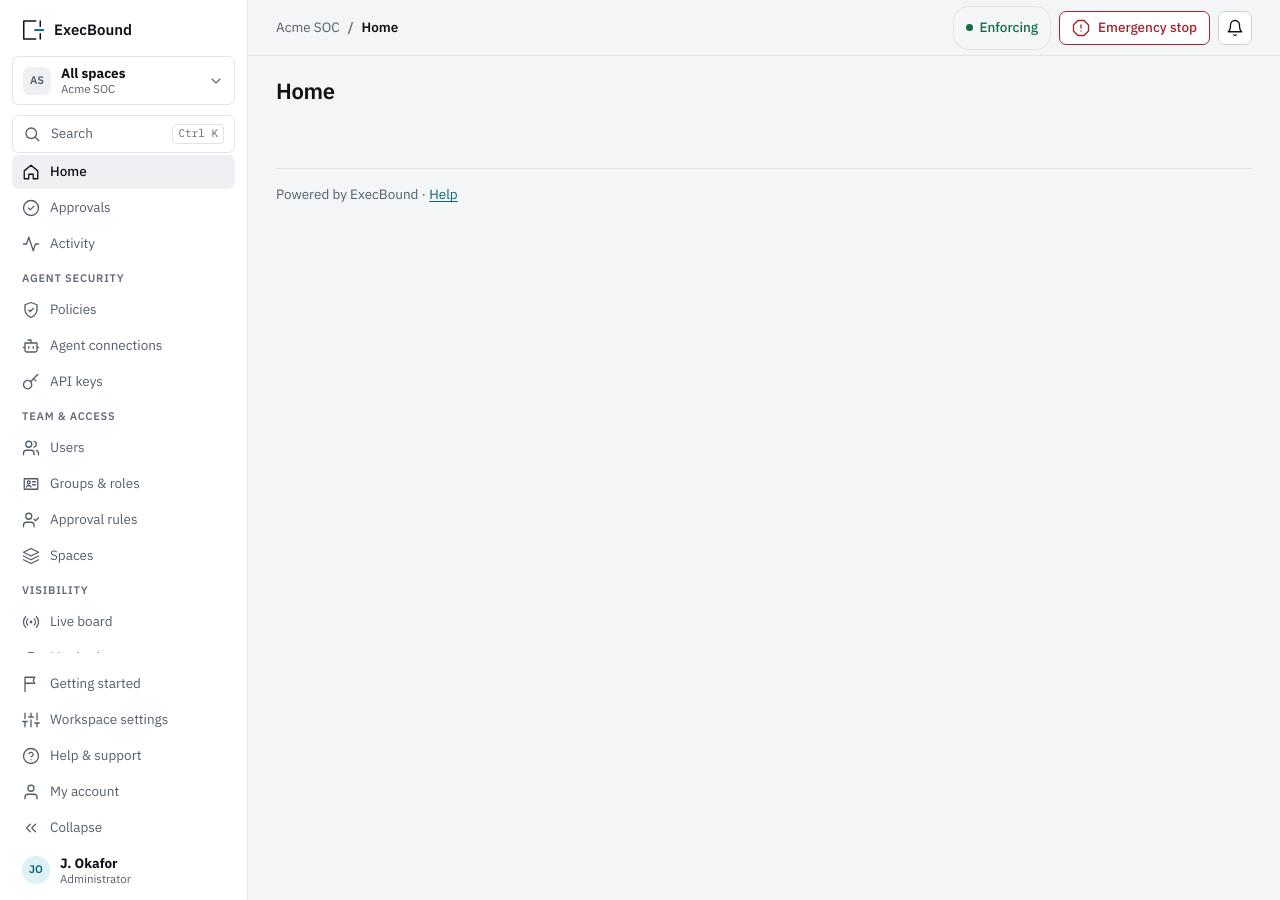
Test: the emergency stop in the shell › opens the stop dialog for an administrator, and shows no banner without a stop
Expected: the heading "Home" is shown, [276,78,335,104]
Click the button "Emergency stop". click: point(1135, 28)
box: [1059,10,1210,44]
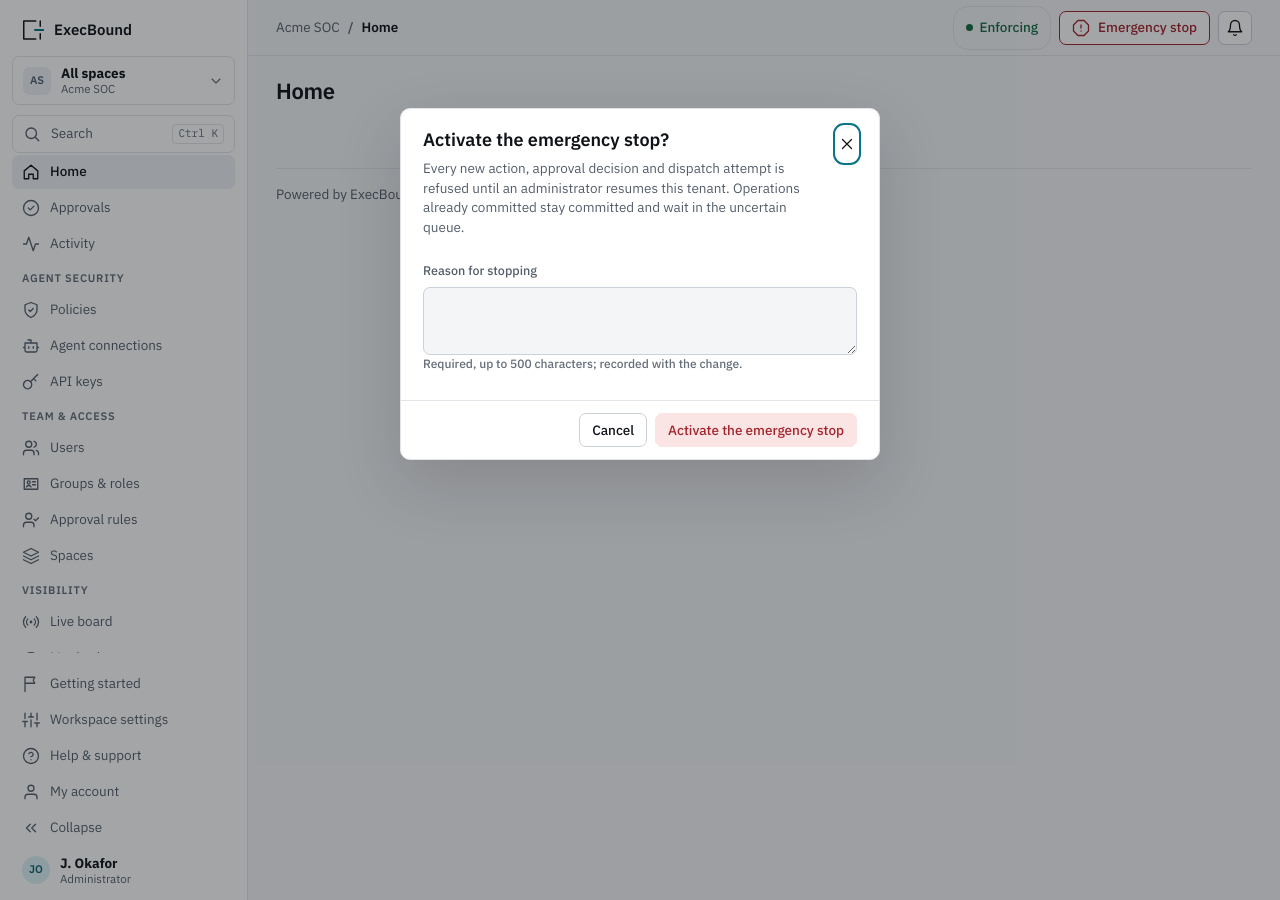
Expected: the dialog "Activate the emergency stop?" is shown, [400,108,880,460]
Press Escape
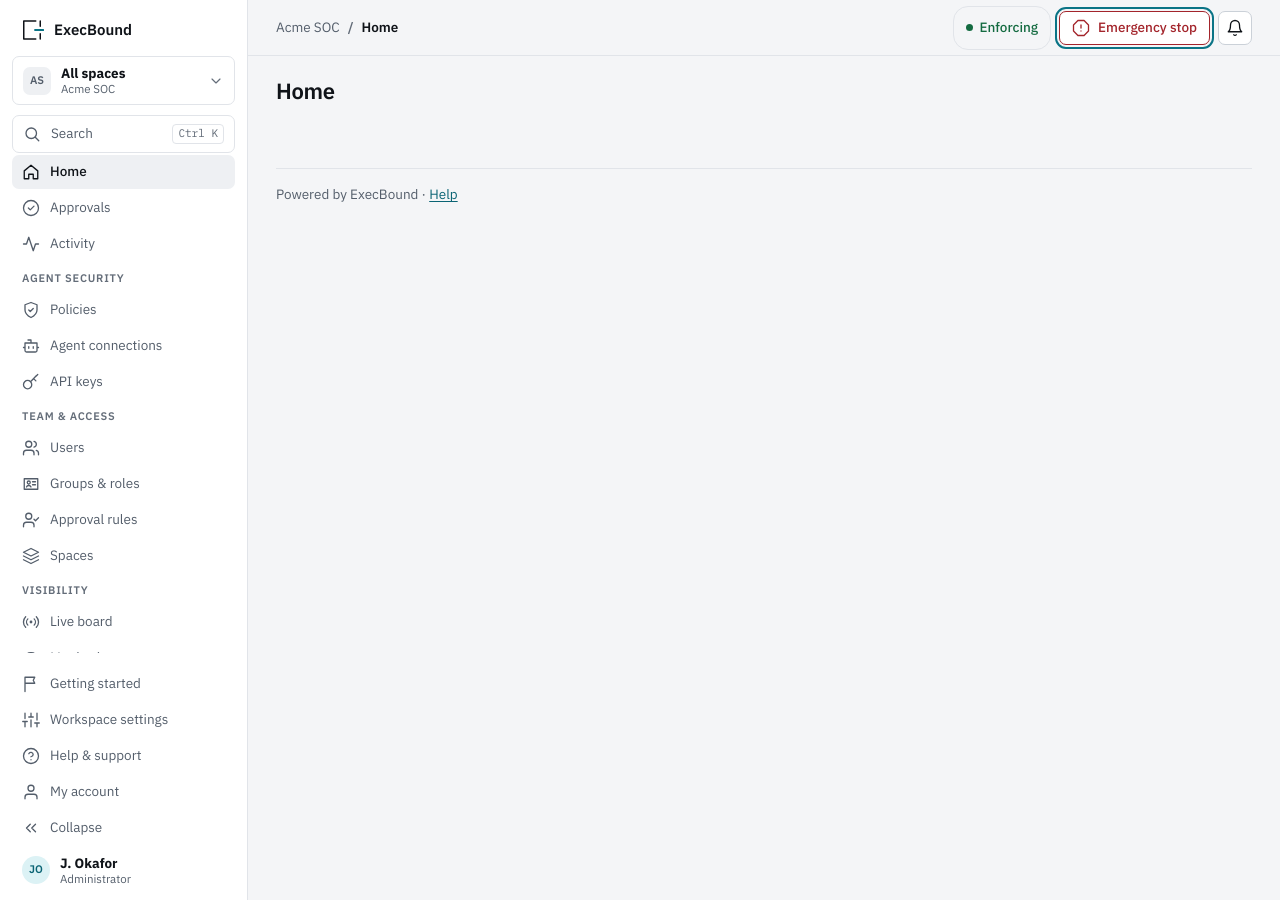
Expected: the dialog is gone
